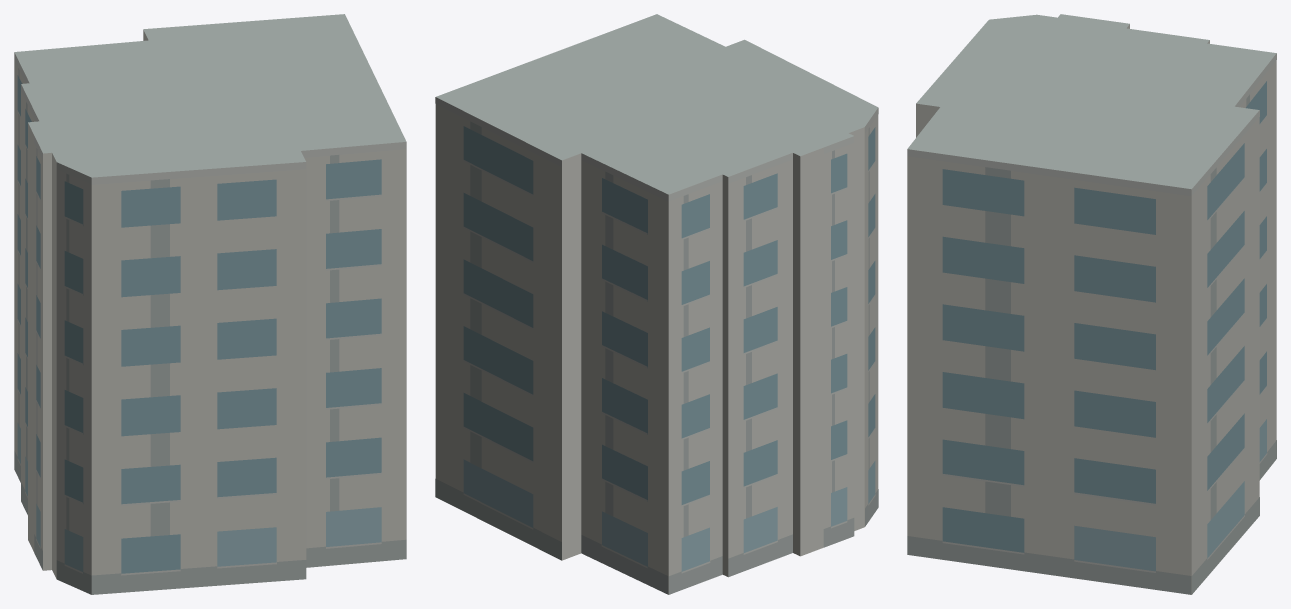
The model's file is survey-upis-32884211.glb.
3 views of the same model, side by side, from view 1: azimuth 30°, elevation 25°; view 2: azimuth 150°, elevation 25°; view 3: azimuth 270°, elevation 25° (orthographic). The views are drawn at different scales.
Parts seen in each view (by area): view 1: survey-upis-32884211.tmp; view 2: survey-upis-32884211.tmp; view 3: survey-upis-32884211.tmp.
Boxes of the visible parts, box(x1,y1,x2,y2) form: survey-upis-32884211.tmp: box(14, 14, 406, 594); survey-upis-32884211.tmp: box(435, 14, 878, 594); survey-upis-32884211.tmp: box(907, 14, 1276, 594).
Bounding box in the file's own units: 13.16 × 14.2 × 11.73.
